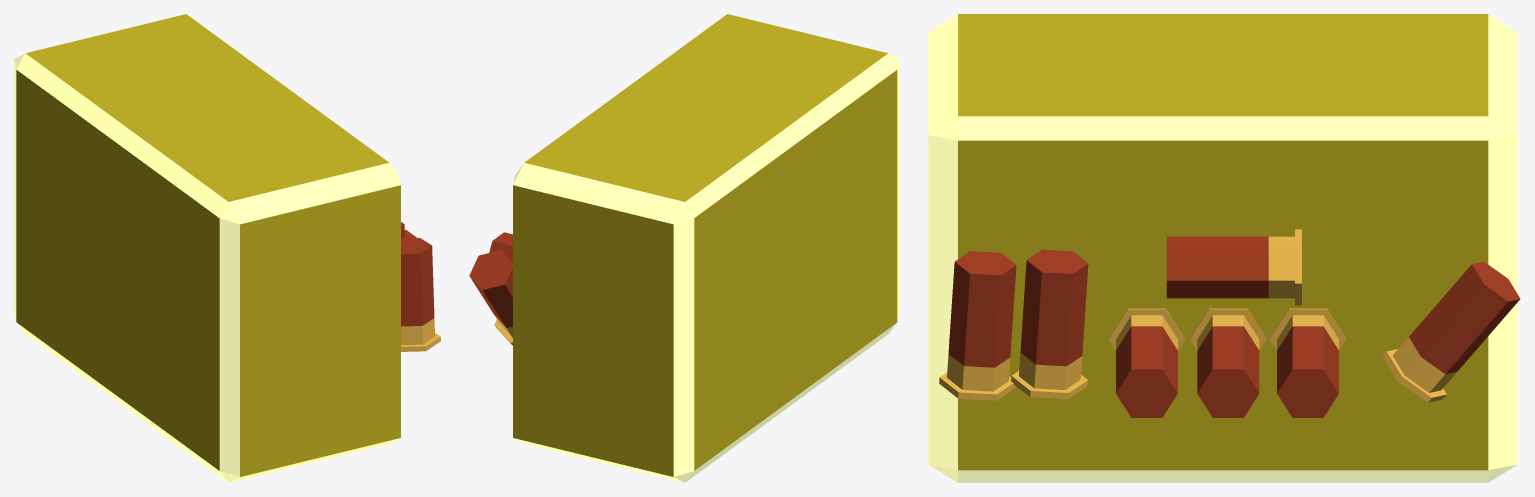
Rendered from gun_ammo_shotgun.glb.
3 views of the same model, side by side, from view 1: azimuth 30°, elevation 25°; view 2: azimuth 150°, elevation 25°; view 3: azimuth 270°, elevation 25° (orthographic). The views are drawn at different scales.
Parts seen in each view (by area): view 1: ammo_shotgun; view 2: ammo_shotgun; view 3: ammo_shotgun.
Boxes of the visible parts, x1,y1,x2,y2 form: ammo_shotgun: (14,14,440,482); ammo_shotgun: (469,14,899,482); ammo_shotgun: (928,14,1520,482).
Size of the model in its own units: 0.1348 by 0.1366 by 0.2.
